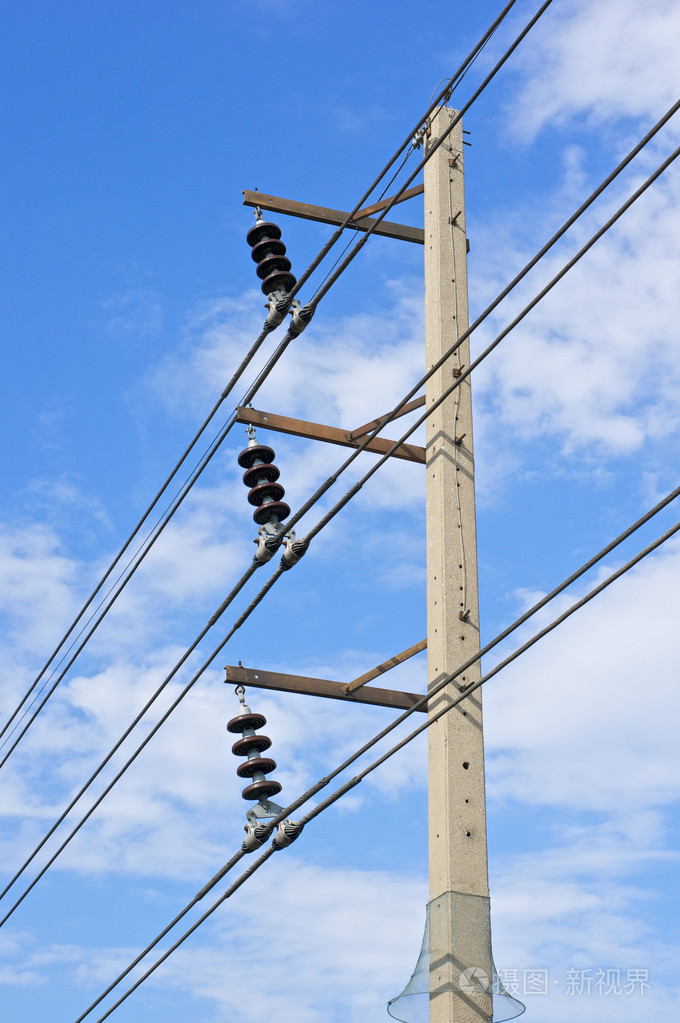insulator: (229, 707, 284, 804), (237, 441, 292, 528), (245, 219, 298, 296)
